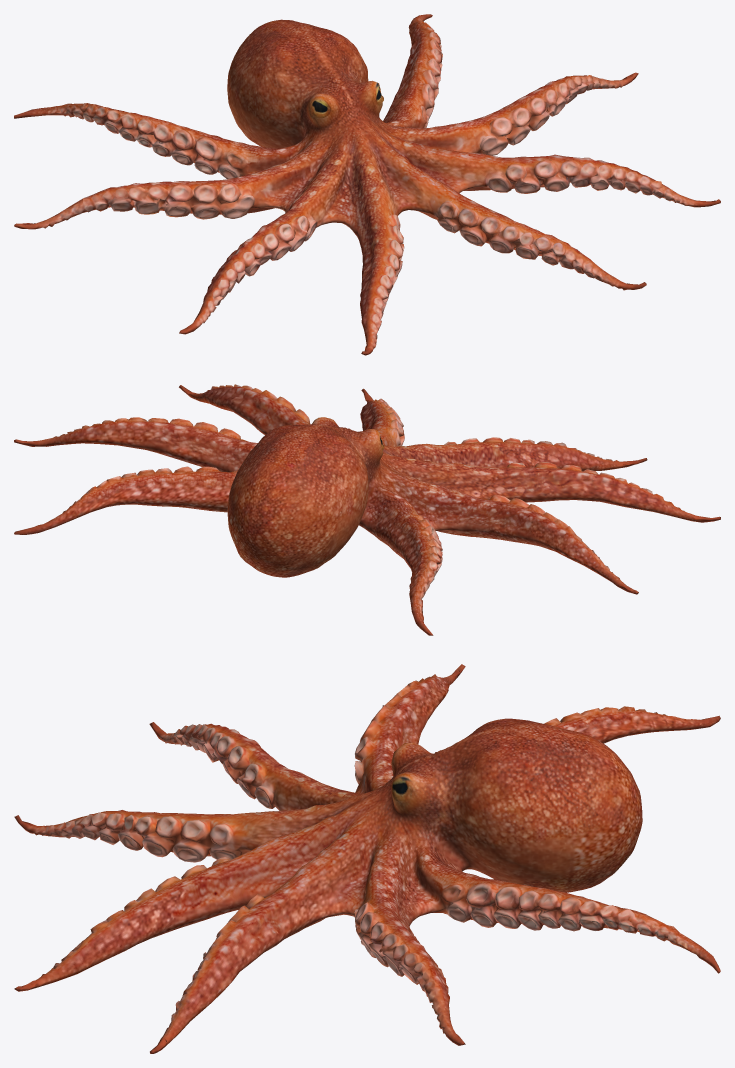
File: Octopus.obj
3 views of the same model, one above another, from view 1: azimuth 30°, elevation 25°; view 2: azimuth 150°, elevation 25°; view 3: azimuth 270°, elevation 25° (orthographic). The views are drawn at different scales.
Size of the model in its own units: 1 by 0.2243 by 0.7853.
1 material, 1 textured.
